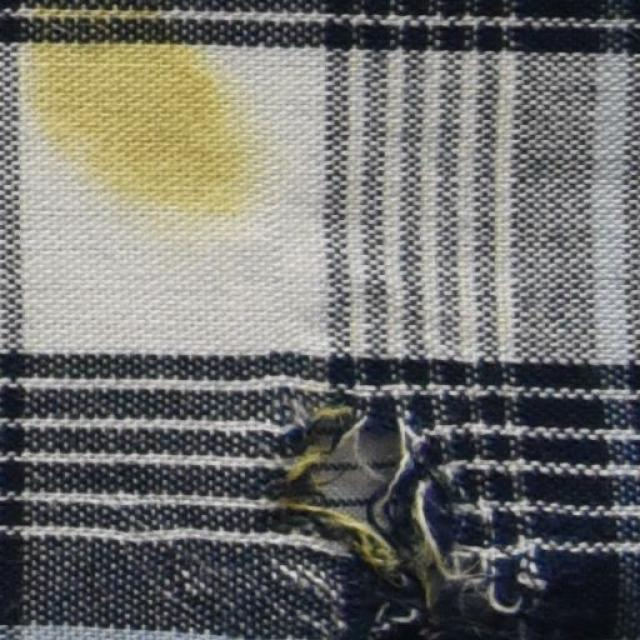Hole: (327, 430, 397, 506)
Snag: (358, 423, 551, 639)
Stain: (5, 4, 261, 211), (278, 399, 404, 579)
